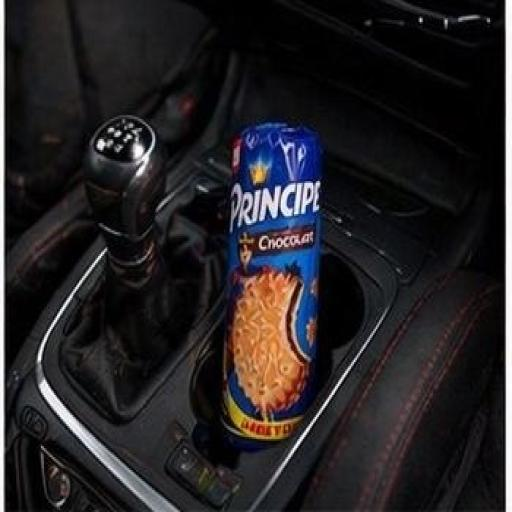prince: (172, 72, 415, 510)
